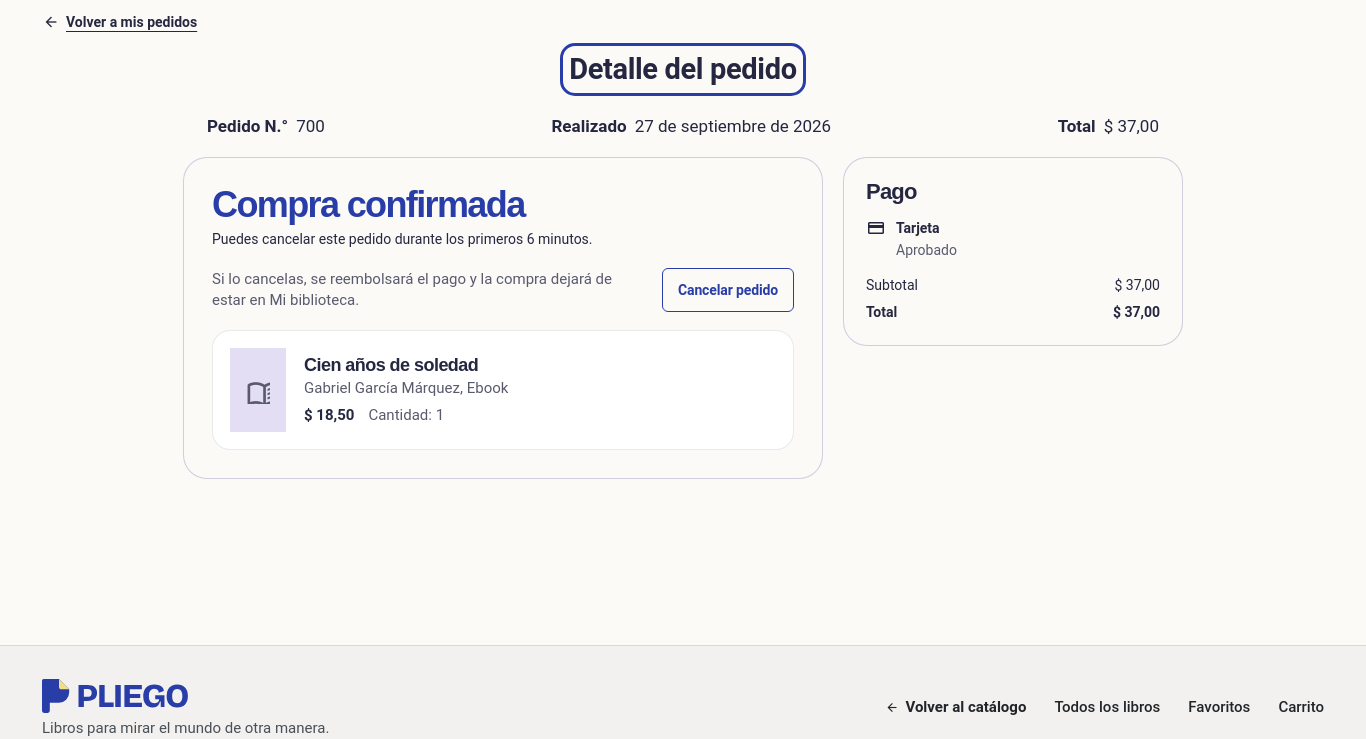
OrderPage › cancels a digital purchase inside its window and then shows the server's cancelled state
Expected: the text "Si lo cancelas, se reembolsará el pago y la compra dejará de estar en Mi biblioteca." is shown, [212,270,612,309]
Step 1. Click the button "Cancelar pedido" → click(728, 290), box [662,268,794,312]
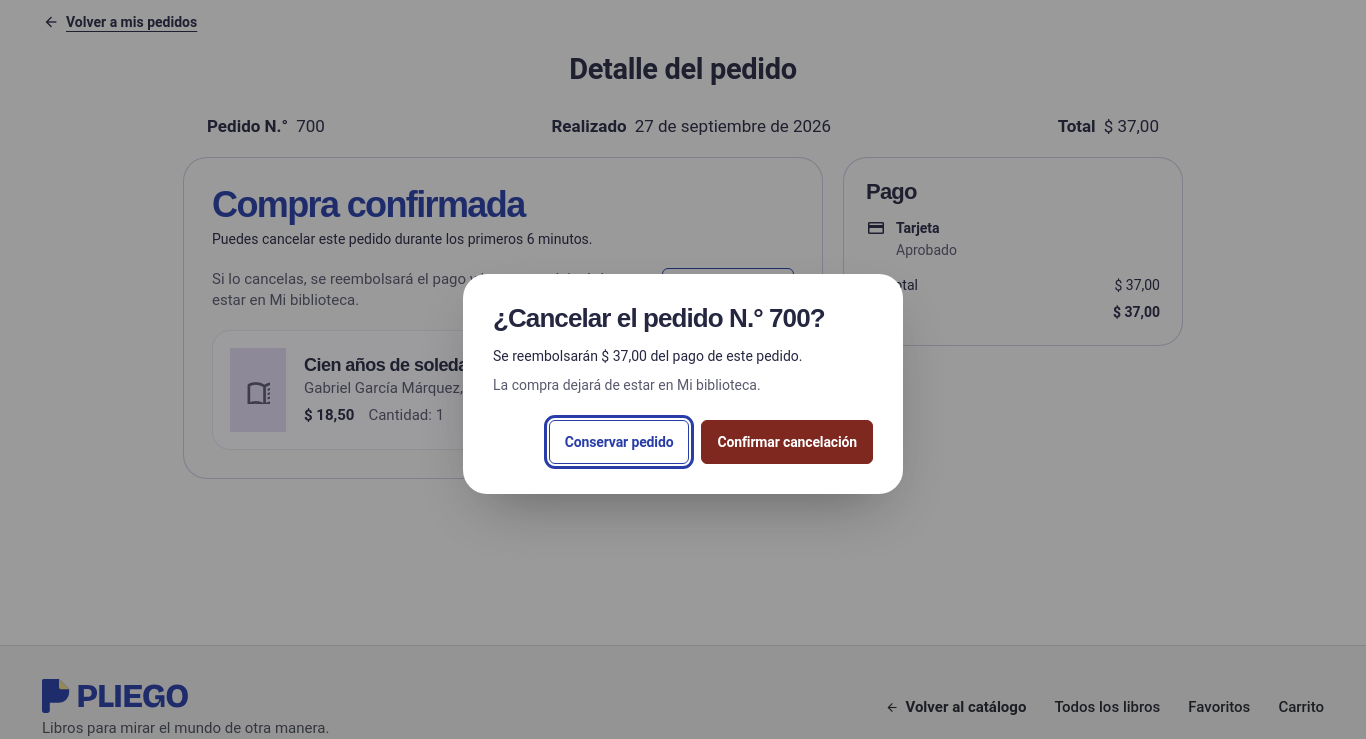
Step 2. Click the button "Confirmar cancelación" → click(787, 442), box [701,420,873,464]
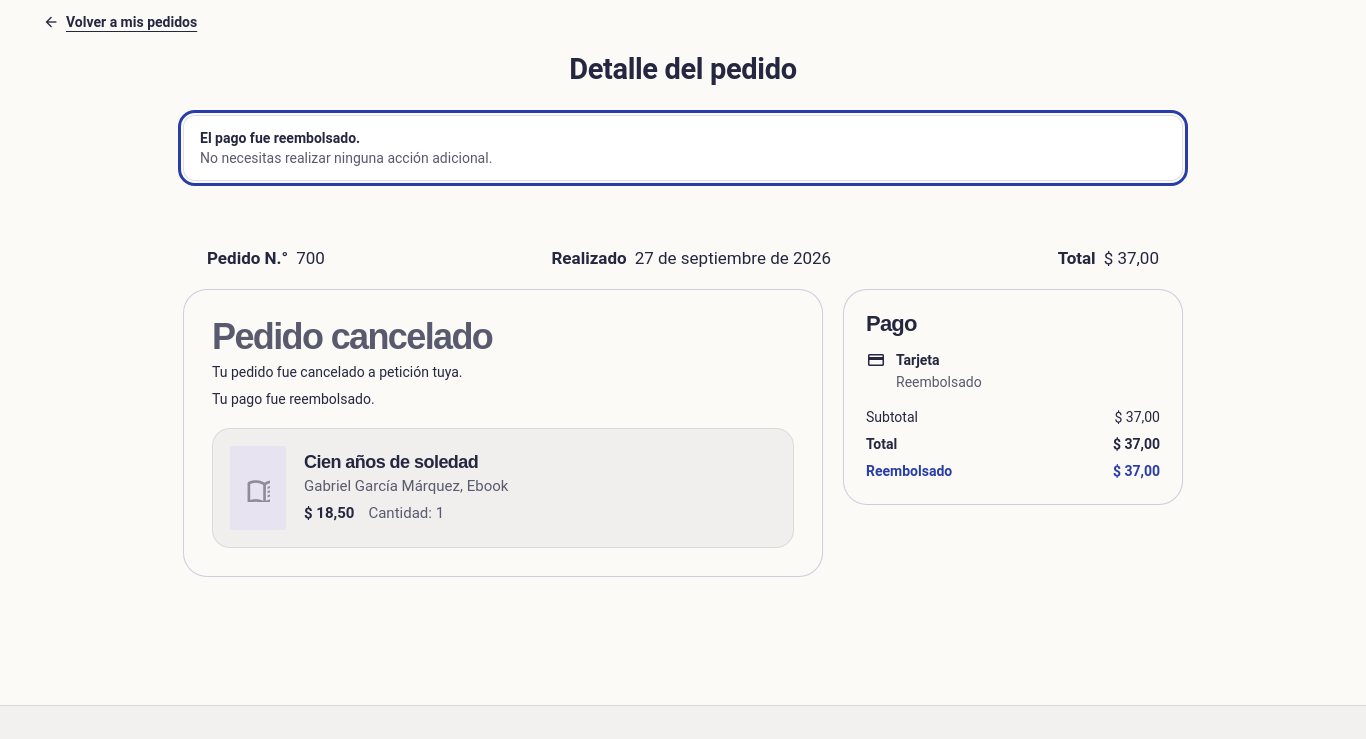
Result: the heading "Pedido cancelado" is shown at [212,316,492,357]
Result: the button "Cancelar pedido" is gone
